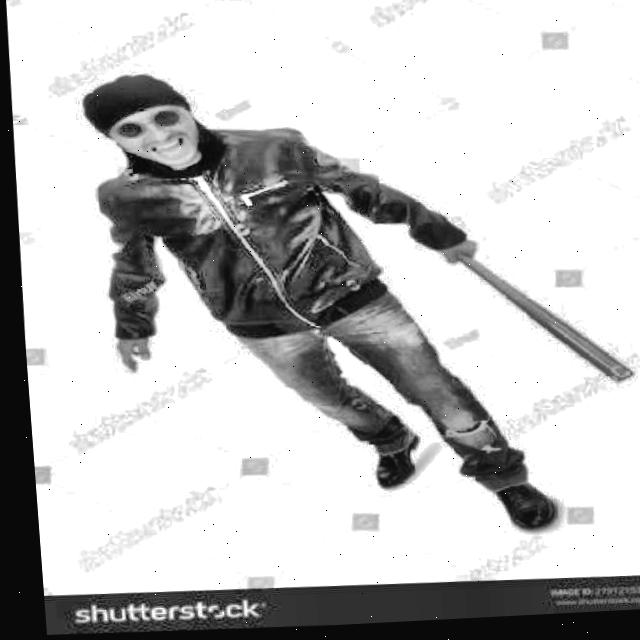tongkat pemukul: (429, 210, 640, 391)
